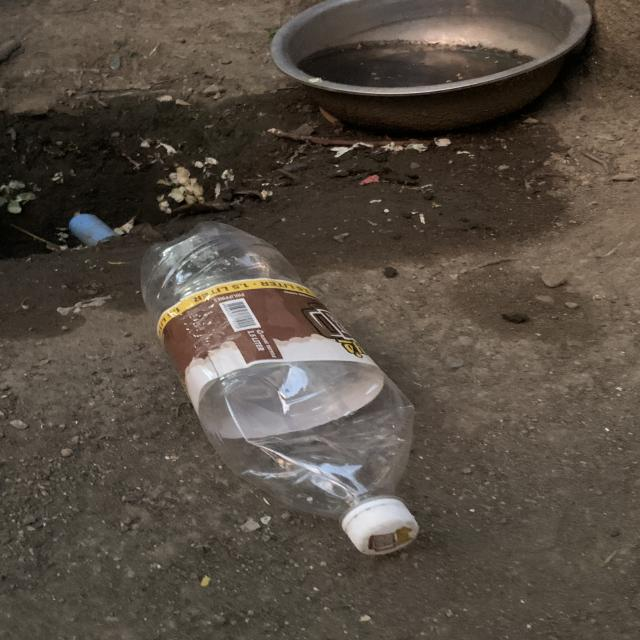Bottle: (141, 222, 419, 555)
